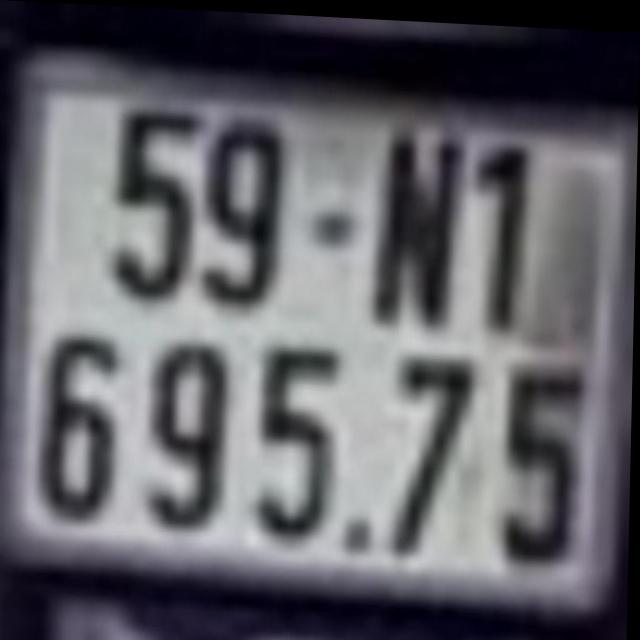1: (468, 125, 545, 326)
5: (499, 345, 591, 558), (247, 327, 339, 540), (108, 92, 201, 300)
6: (37, 324, 127, 525)
7: (375, 334, 481, 559)
9: (144, 327, 236, 539), (203, 106, 281, 307)
N: (361, 117, 463, 326)
